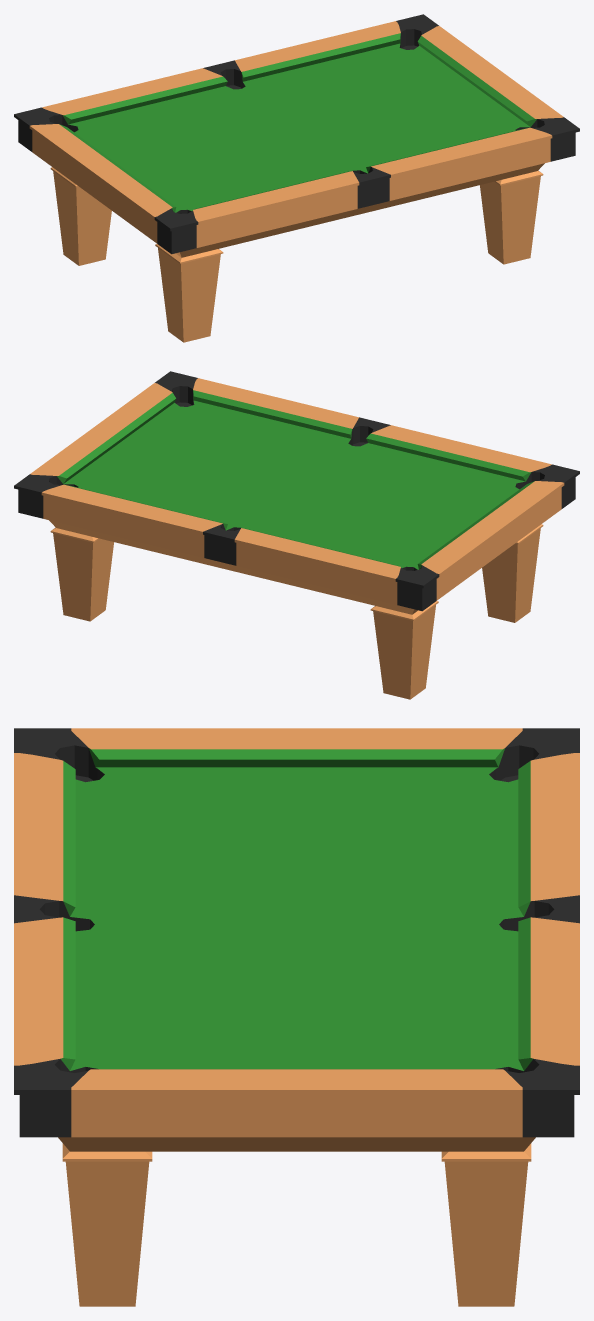
Rendered from pooltable.fbx.
3 views of the same model, one above another, from view 1: azimuth 30°, elevation 25°; view 2: azimuth 150°, elevation 25°; view 3: azimuth 270°, elevation 25° (orthographic). The views are drawn at different scales.
Parts seen in each view (by area): view 1: PoolTable; view 2: PoolTable; view 3: PoolTable.
Boxes of the visible parts, <box> form: PoolTable: <box>14,14,579,342</box>; PoolTable: <box>14,371,579,699</box>; PoolTable: <box>14,728,579,1306</box>.
Size of the model in its own units: 1529 by 481 by 1012.
